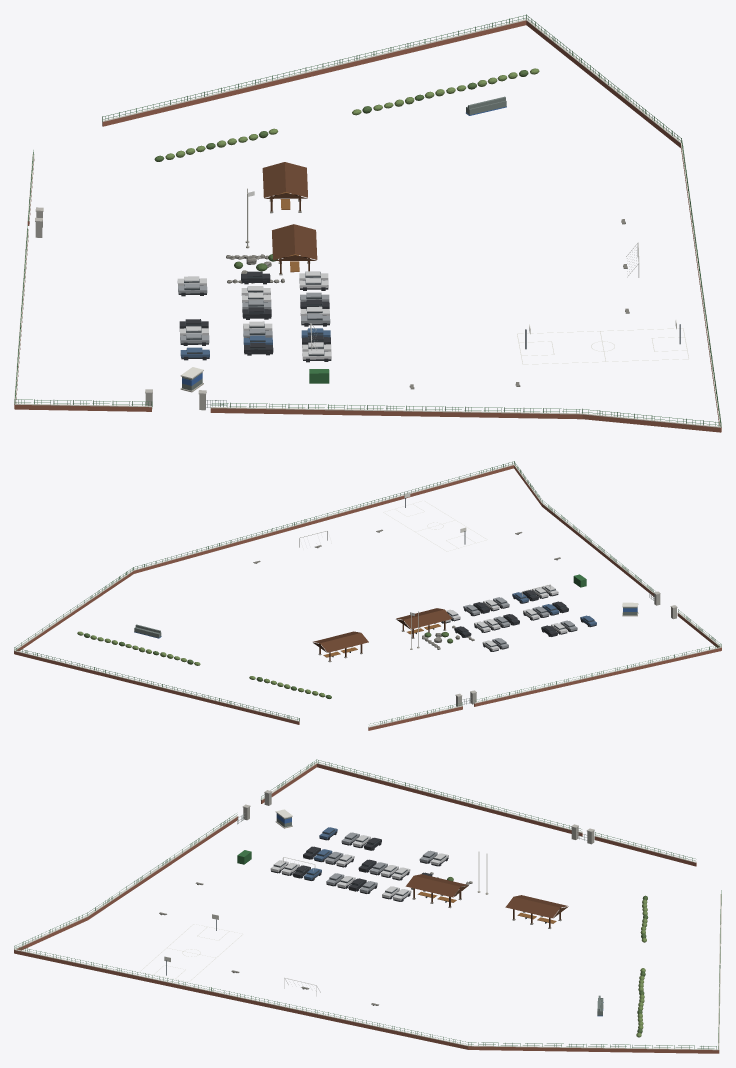
3 views of the same model, one above another, from view 1: azimuth 30°, elevation 25°; view 2: azimuth 150°, elevation 25°; view 3: azimuth 270°, elevation 25° (orthographic). The views are drawn at different scales.
Visible parts, largest first — view 1: prop_boundary-fence, prop_parked-cars, prop_pavilions, prop_flowerbeds; view 2: prop_boundary-fence, prop_parked-cars, prop_pavilions, prop_flowerbeds; view 3: prop_boundary-fence, prop_parked-cars, prop_pavilions, prop_flowerbeds.
Boxes of the visible parts, x1,y1,x2,y2 form: prop_boundary-fence: [14, 14, 721, 432]; prop_parked-cars: [177, 271, 331, 362]; prop_pavilions: [262, 162, 317, 275]; prop_flowerbeds: [154, 68, 539, 271]; prop_boundary-fence: [14, 461, 721, 730]; prop_parked-cars: [441, 585, 596, 651]; prop_pavilions: [313, 608, 451, 662]; prop_flowerbeds: [77, 631, 452, 698]; prop_boundary-fence: [14, 759, 721, 1053]; prop_parked-cars: [270, 827, 448, 901]; prop_pavilions: [405, 874, 568, 928]; prop_flowerbeds: [447, 877, 648, 1037].
Size of the model in its own units: 136 by 9.13 by 142.
